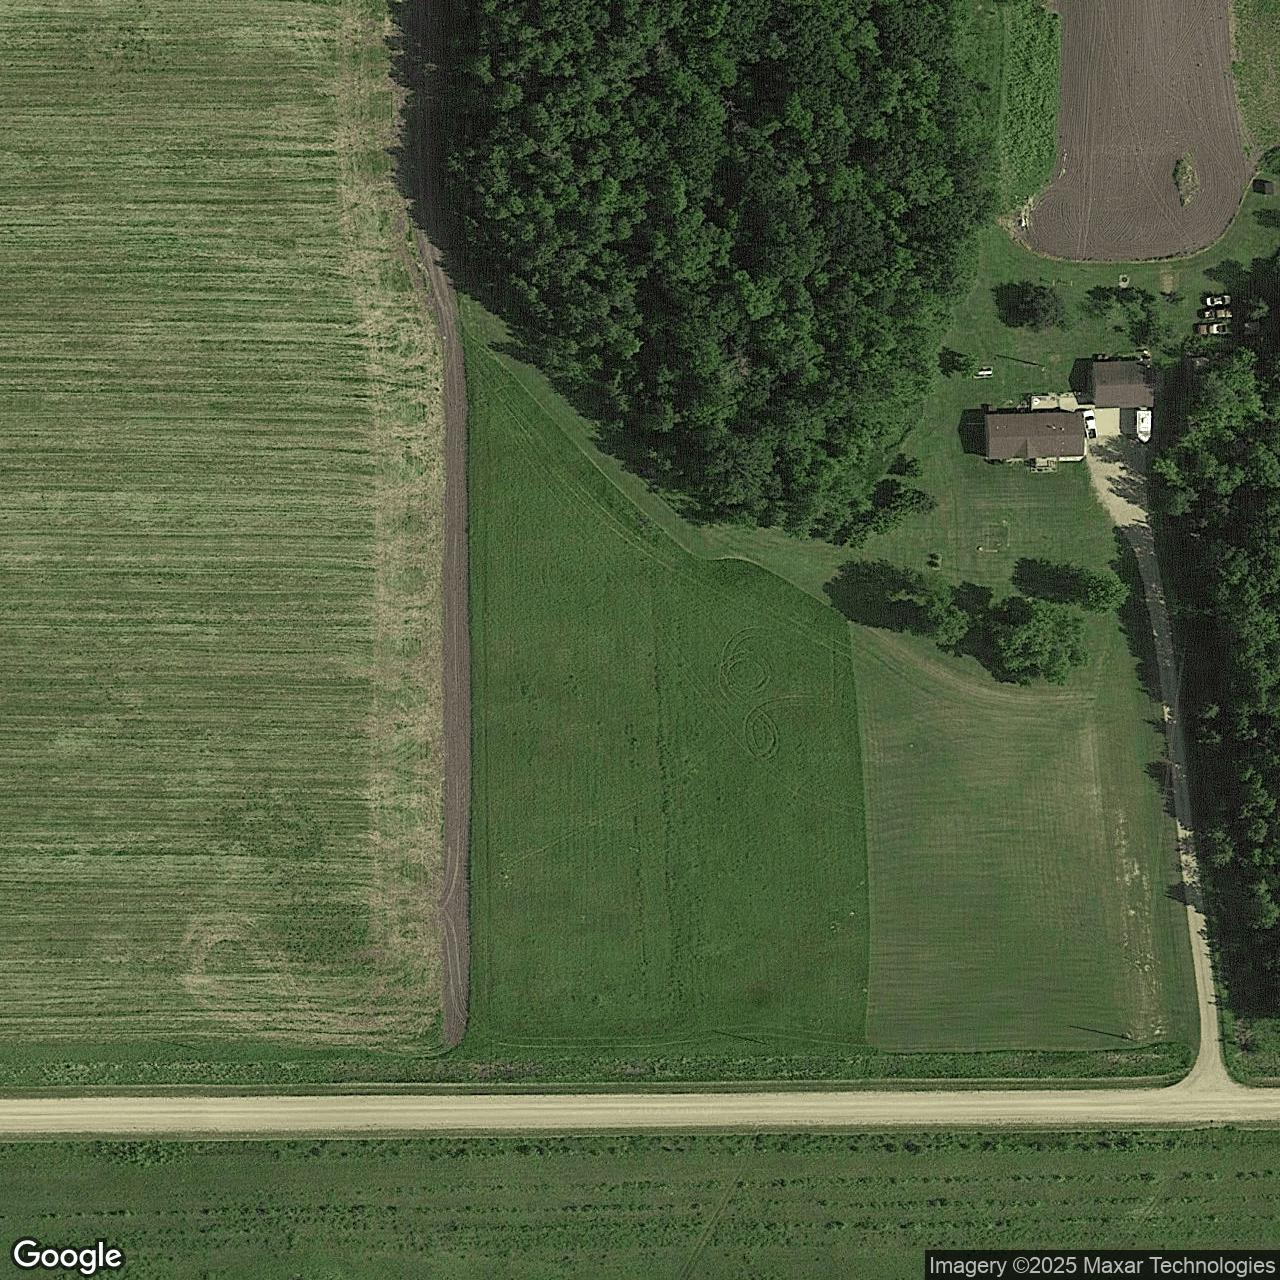Garage: (1089, 361, 1157, 407)
House: (983, 413, 1085, 459)
Propane: (975, 366, 995, 379)
